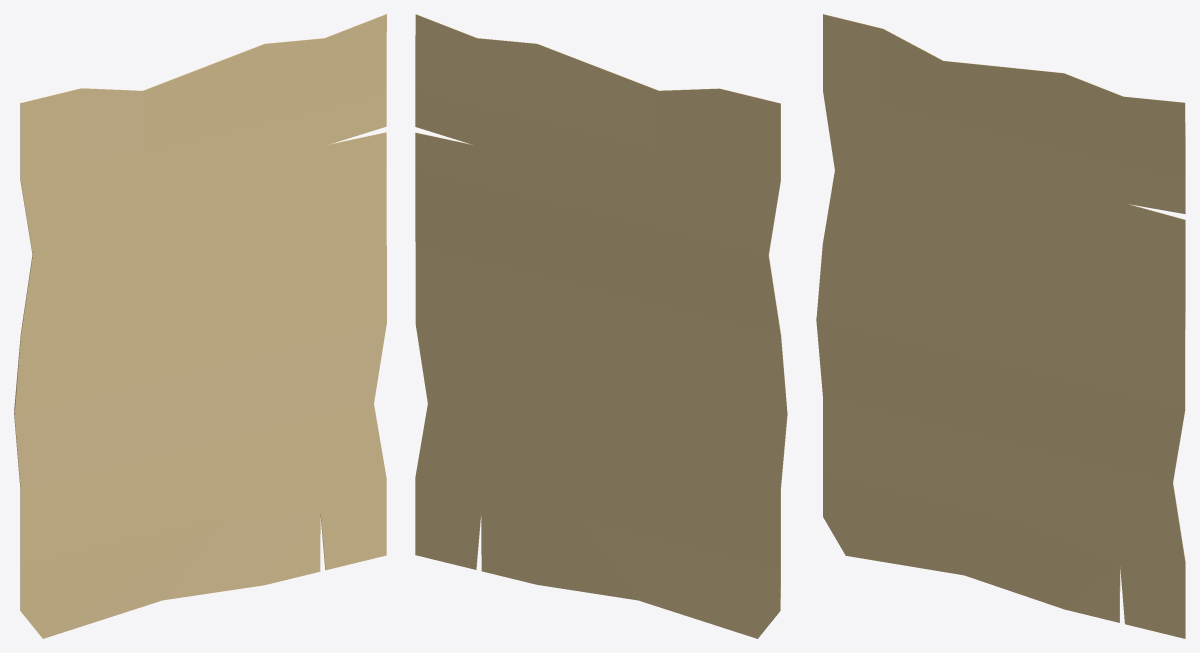
The model's file is Note_A4.fbx.
3 views of the same model, side by side, from view 1: azimuth 30°, elevation 25°; view 2: azimuth 150°, elevation 25°; view 3: azimuth 330°, elevation 25° (orthographic).
Visible parts, largest first — view 1: Note A4.001; view 2: Note A4.001; view 3: Note A4.001.
Boxes of the visible parts, left/top/right/bottom form: Note A4.001: left=14, top=14, right=386, bottom=638; Note A4.001: left=415, top=14, right=787, bottom=638; Note A4.001: left=816, top=14, right=1185, bottom=638.
Bounding box in the file's own units: 21.37 × 29.7 × 0.1.
